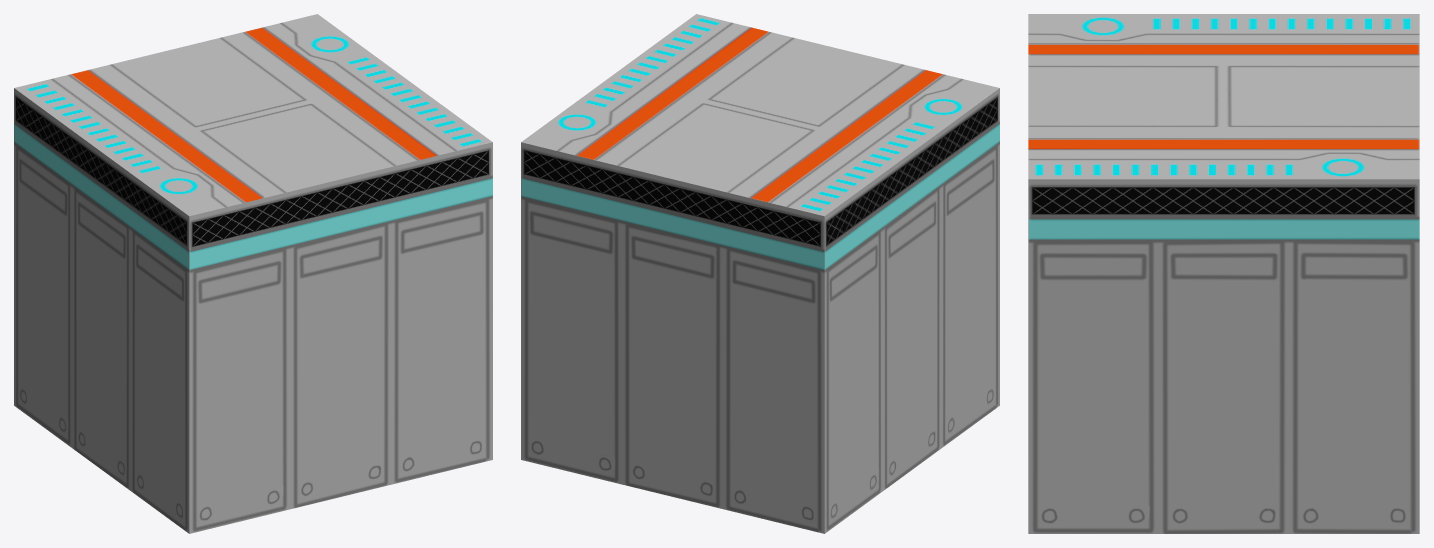
File: base_block_full.fbx
The picture shows the model from 3 angles, left to right: view 1: azimuth 30°, elevation 25°; view 2: azimuth 150°, elevation 25°; view 3: azimuth 270°, elevation 25°; orthographic projection. The views are drawn at different scales.
Parts seen in each view (by area): view 1: base_block_full; view 2: base_block_full; view 3: base_block_full.
Boxes of the visible parts, bbox=[...] form: base_block_full: bbox=[14, 14, 492, 533]; base_block_full: bbox=[521, 14, 999, 533]; base_block_full: bbox=[1028, 14, 1419, 533].
Bounding box in the file's own units: 16 × 16 × 16.
